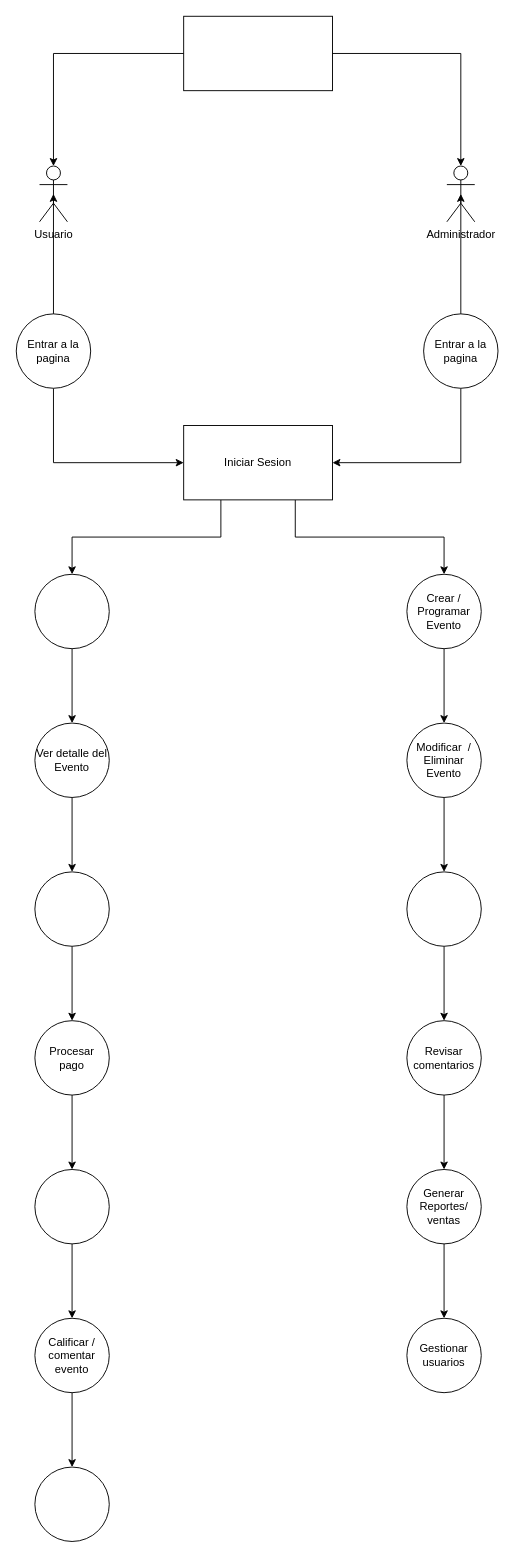
Image size: 514x1558. Some labels were removed from this diagram. Here are the shapes that lost their labels. From the top down, the centre of each, then its label:
At point (257, 53): "Sistema Web de Eventos Internacionales".
At point (71, 611): "Ver / Buscar eventos".
At point (71, 908): "Comprar tickets".
At point (443, 908): "Publicar Evento".
At point (71, 1206): "Recibir ticket confirmado".
At point (71, 1503): "Consultar Historial / mis tickets".
